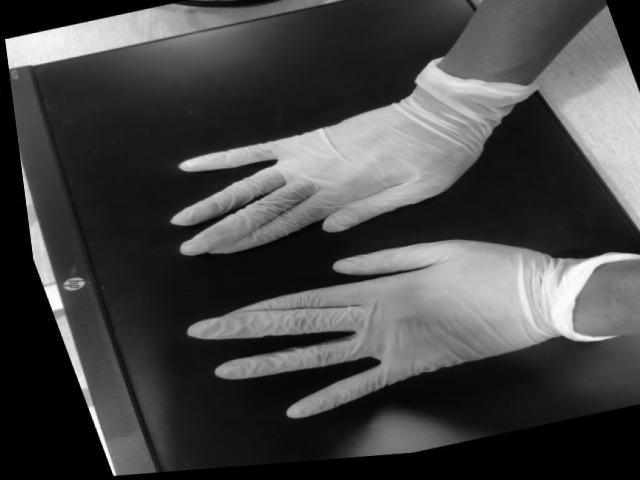gloved: (184, 237, 540, 419), (169, 97, 449, 258)
